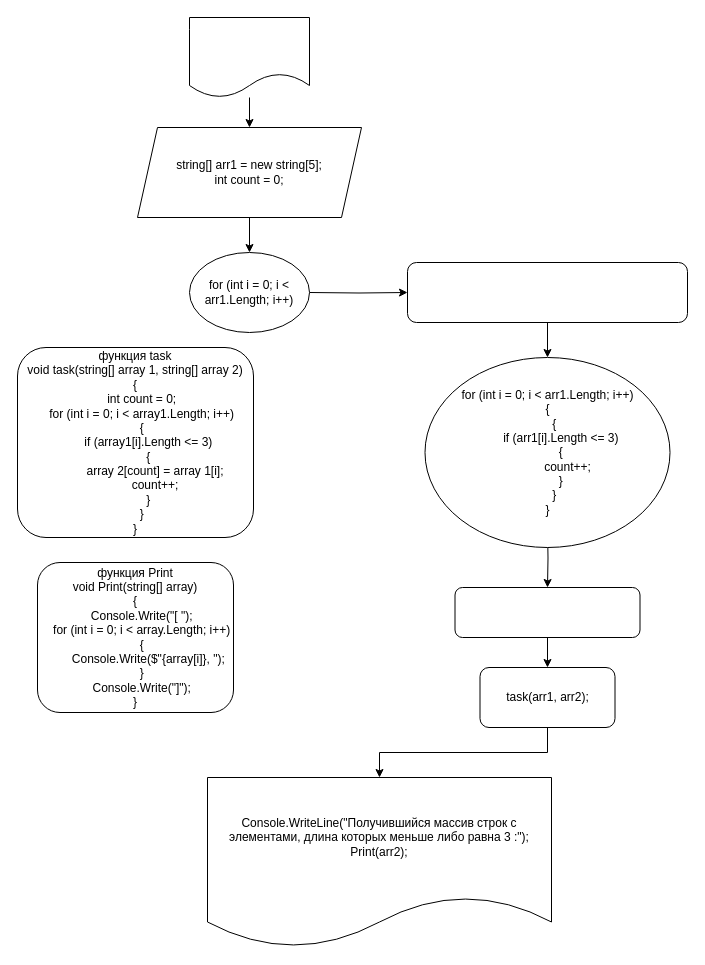
The diagram is 705 pixels wide and 965 high, and some of its shapes have lost their labels. The shapes that lost their labels are listed below. From the top down, each one's centre as x and y in pixels, then its label:
[249,57]: Начало
[547,292]: arr1[i] = Convert.ToString(Console.ReadLine());
[547,612]: string[] arr2 = new string[count];
